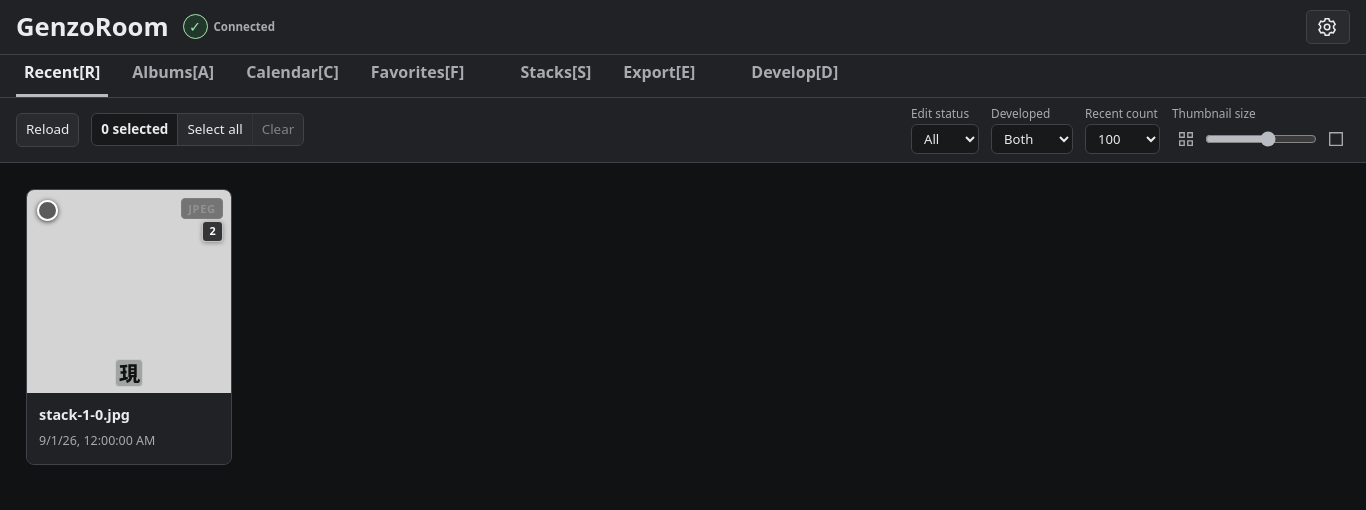
Test: Gallery Stack target navigation › never resumes a previous workspace for a selected recent Stack with empty targets
Click the checkbox named "Select stack-1-0.jpg".
click(48, 210)  # box [37,200,58,221]
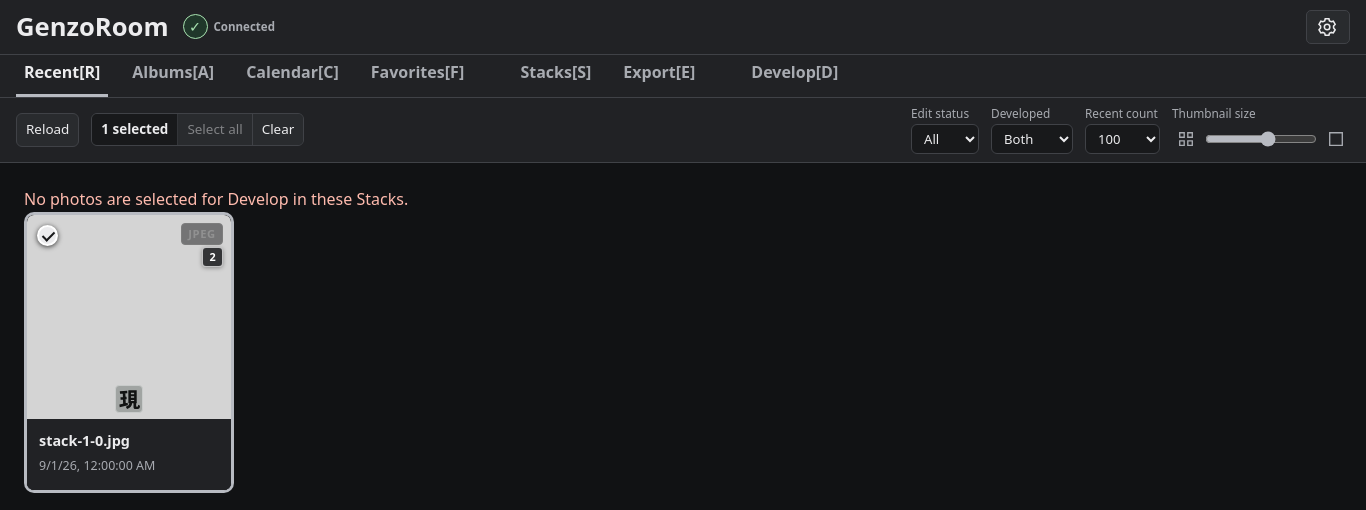
Result: the message "No photos are selected for Develop in these Stacks." is shown at [24,188,408,210]
